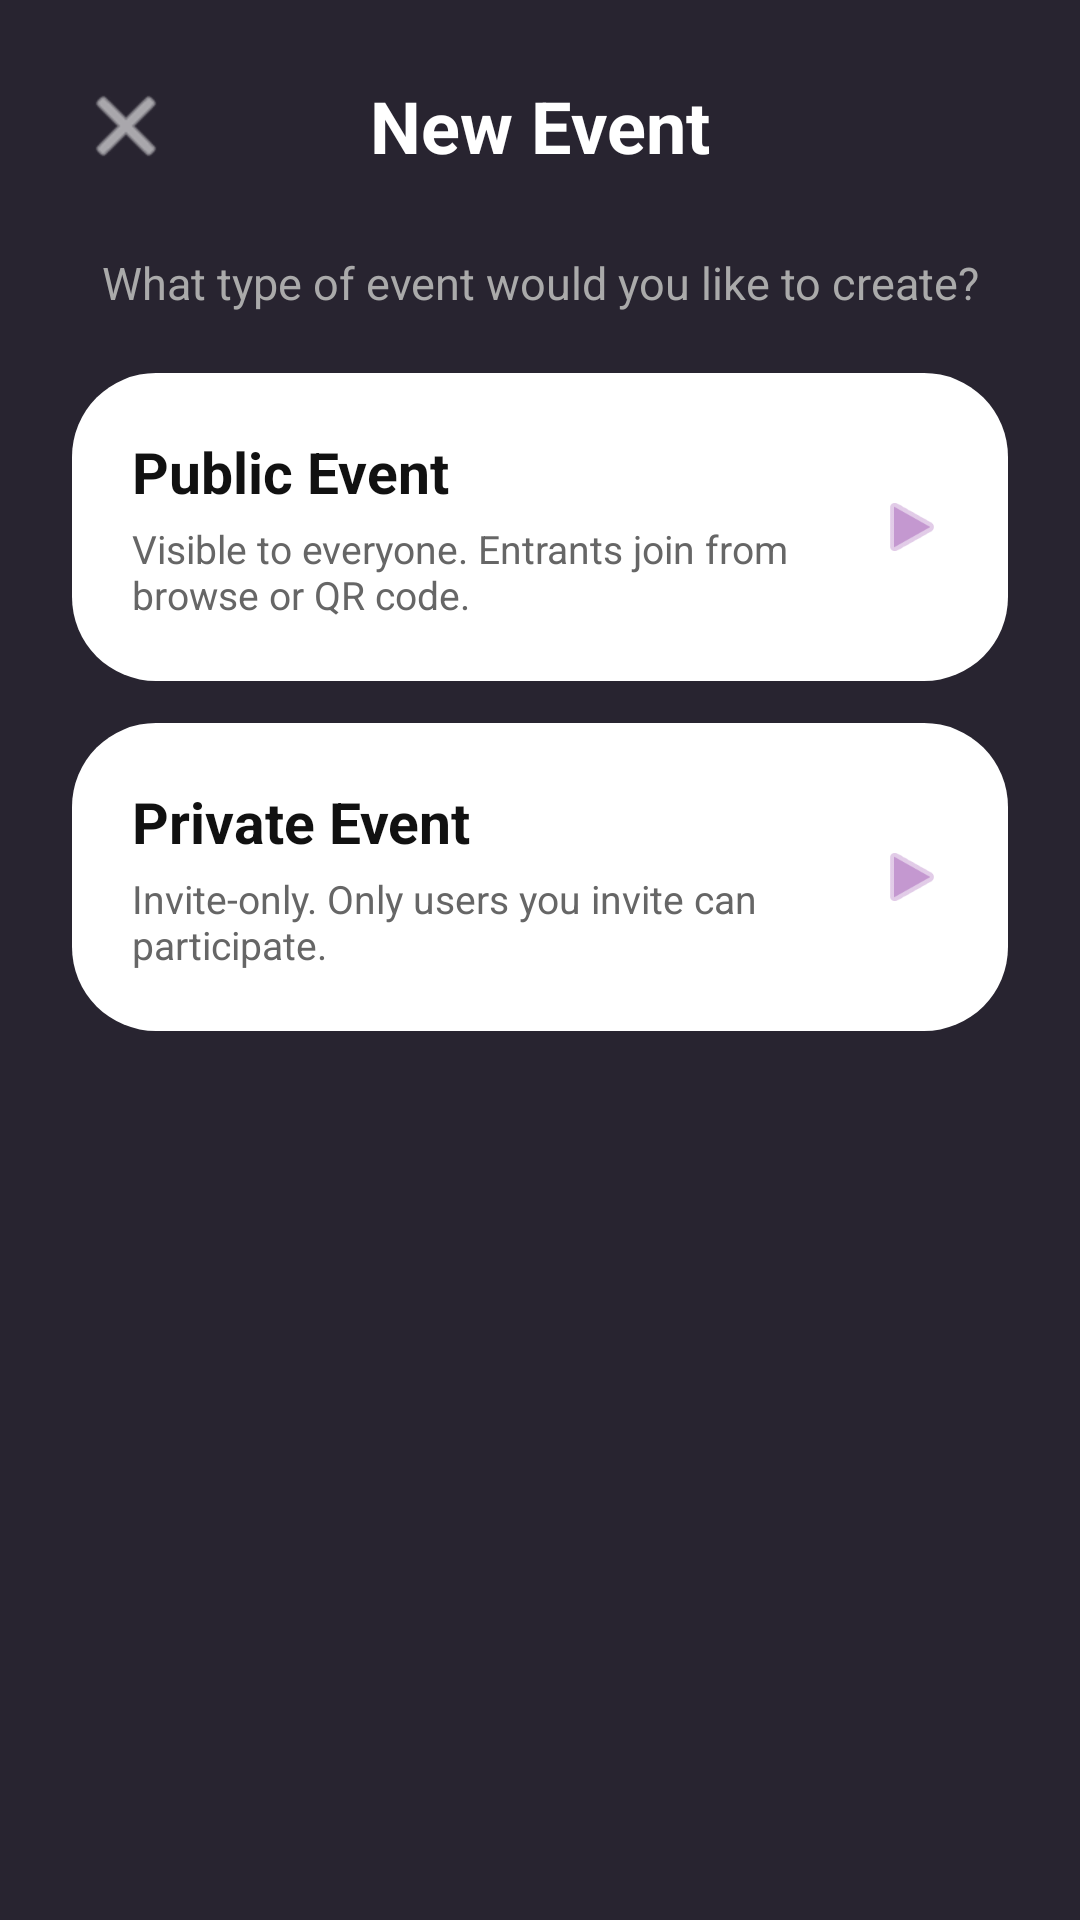

Icons on this 1080px×1920px Android screen, each with its box as (x1, y1, x2, y2):
close clear cancel: (96, 96, 156, 156)
play: (890, 503, 934, 551), (890, 853, 934, 901)
